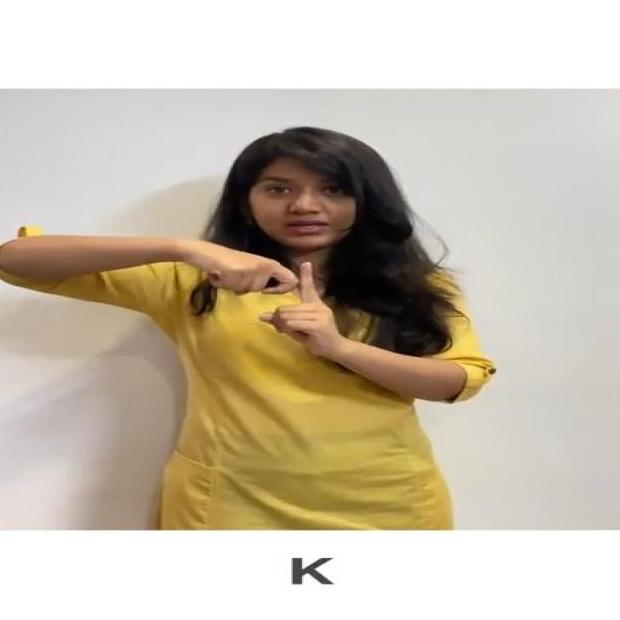J: (176, 231, 375, 375)
